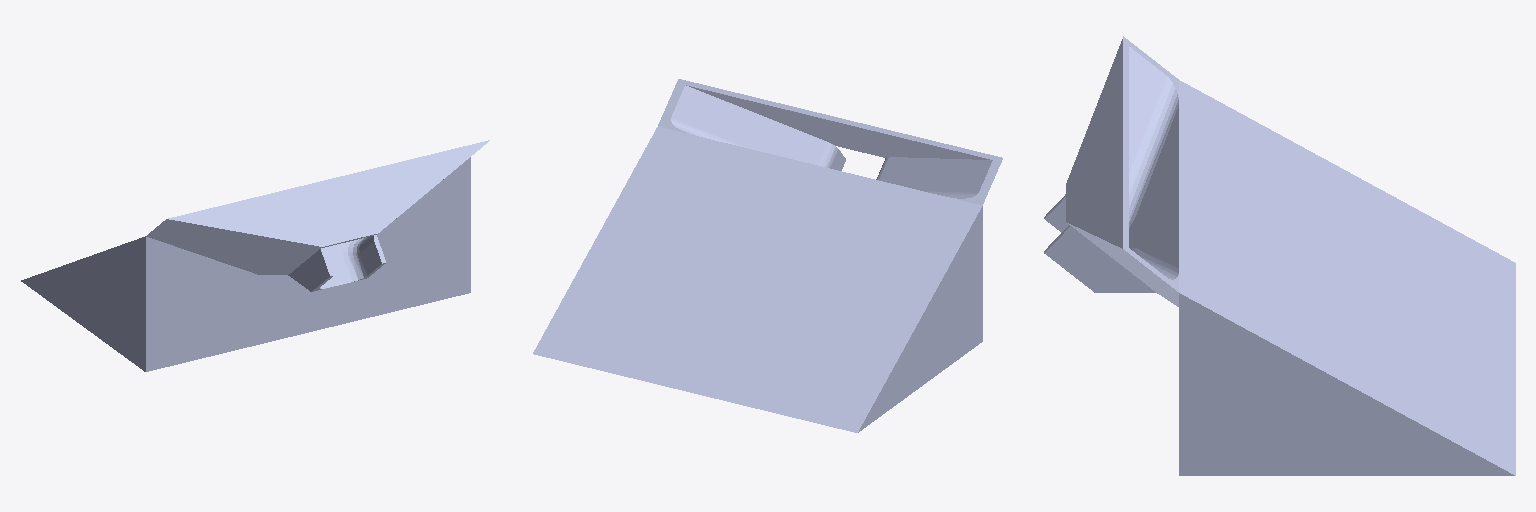
The robot description file, URDF, robot "platform":
<?xml version="1.0" encoding="utf-8"?>
<!-- This URDF was automatically created by SolidWorks to URDF Exporter! Originally created by [author] ([email redacted]) 
     Commit Version: 1.5.1-0-g916b5db  Build Version: 1.5.7152.31018
     For more information, please see http://wiki.ros.org/sw_urdf_exporter -->
<robot
  name="platform">
  <link
    name="platform">
    <inertial>
      <origin
        xyz="0.75 0.30396 0.21934"
        rpy="0 0 0" />
      <mass
        value="482.29" />
      <inertia
        ixx="42.926"
        ixy="-2.2195E-07"
        ixz="-5.2838E-06"
        iyy="98.969"
        iyz="-11.411"
        izz="118.12" />
    </inertial>
    <visual>
      <origin
        xyz="0 0 0"
        rpy="1.5707963267949 0 0" />
      <geometry>
        <mesh
          filename="package://platform/meshes/platform.STL" />
      </geometry>
      <material
        name="">
        <color
          rgba="0.79216 0.81961 0.93333 1" />
        <texture
          filename="package://platform/textures/" />
      </material>
    </visual>
    <collision>
      <origin
        xyz="0 0 0"
        rpy="1.5707963267949 0 0" />
      <geometry>
        <mesh
          filename="package://platform/meshes/platform.STL" />
      </geometry>
    </collision>
  </link>
</robot>

--- Render facts (derived) ---
3 views of the same robot in one strip: view 1: azimuth 30°, elevation 25°; view 2: azimuth 150°, elevation 25°; view 3: azimuth 270°, elevation 25° (orthographic).
Robot: platform — 1 links, 0 joints (none); root link platform; default pose: every joint at zero.
Visible links, largest first — view 1: platform; view 2: platform; view 3: platform.
Link boxes in pixels (x1=…): platform: x1=21, y1=140, x2=489, y2=371; platform: x1=533, y1=79, x2=1002, y2=432; platform: x1=1044, y1=36, x2=1515, y2=475.
Size in the robot's own frame: 1.5 by 1.4 by 0.7436 metres.
Meshes: 1 distinct files referenced, 1 mesh visuals loaded (1 binary STL).